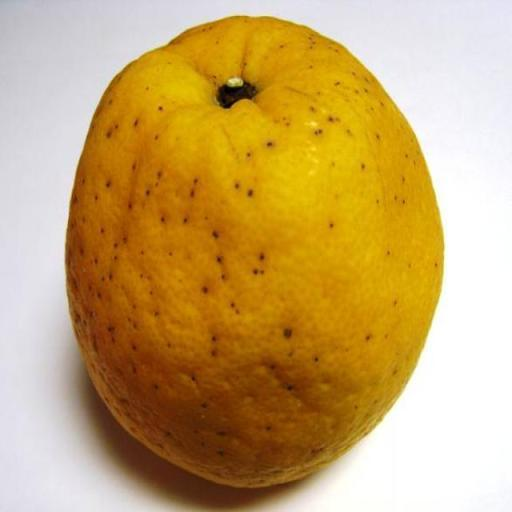fruit: (66, 16, 441, 486)
